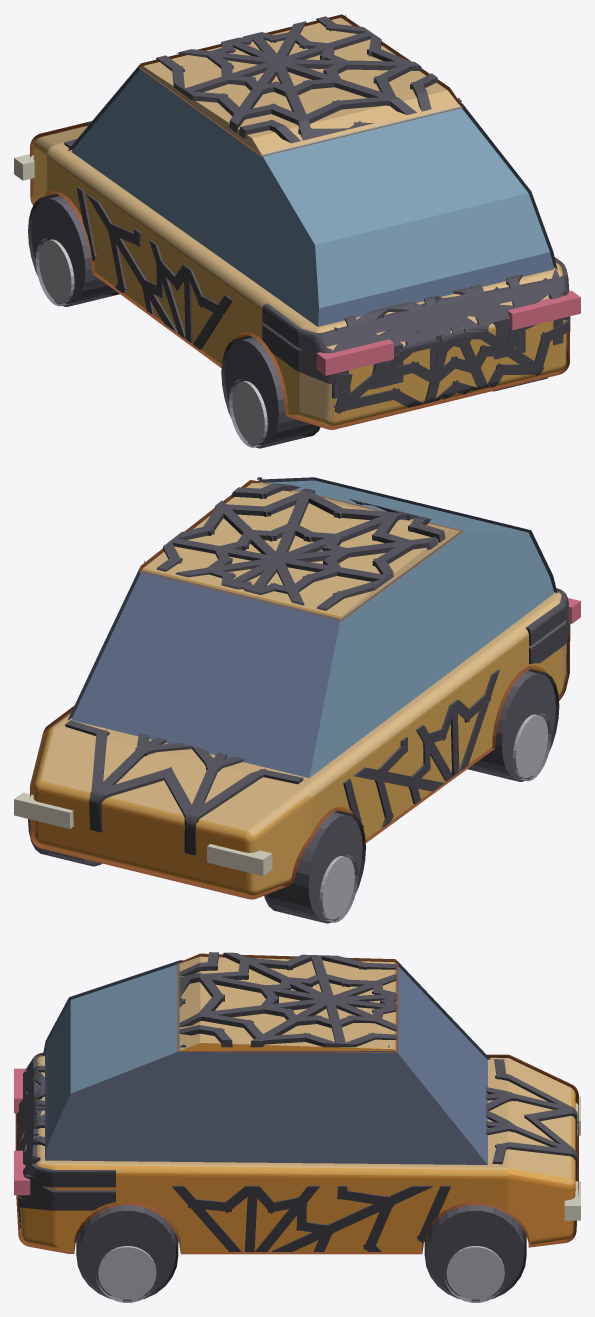
The model's file is car_bubble.glb.
3 renders of one model, top to bottom at view 1: azimuth 30°, elevation 25°; view 2: azimuth 150°, elevation 25°; view 3: azimuth 270°, elevation 25°, orthographic. The views are drawn at different scales.
Visible parts, largest first — view 1: car; view 2: car; view 3: car.
Boxes of the visible parts, x1,y1,x2,y2 form: car: (14, 14, 580, 448); car: (14, 477, 580, 923); car: (14, 952, 580, 1302).
Size of the model in its own units: 1.85 by 1.66 by 3.5.
